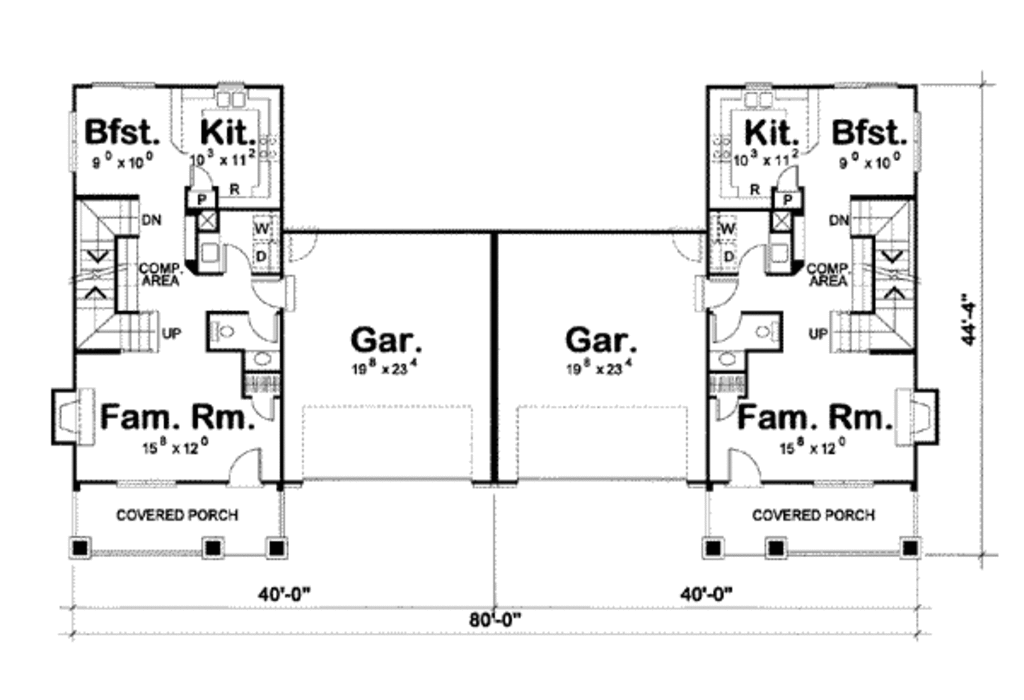door: (718, 441, 769, 493), (690, 274, 744, 312), (248, 274, 304, 309), (666, 219, 706, 262), (282, 224, 324, 262), (225, 446, 263, 485), (220, 236, 254, 279), (245, 310, 287, 344), (185, 155, 222, 191), (710, 309, 746, 343), (738, 241, 769, 277), (711, 390, 747, 421), (250, 389, 277, 421), (769, 162, 800, 189)
large_sink: (201, 308, 237, 347), (744, 312, 784, 345)
small_sink: (237, 346, 286, 373), (706, 349, 746, 373)
stairs: (821, 183, 918, 352), (75, 192, 167, 358)
twin_sink: (206, 78, 254, 113), (735, 77, 779, 111)
window: (810, 471, 880, 492), (108, 472, 181, 492), (64, 105, 85, 172), (911, 111, 926, 176), (119, 71, 160, 92), (833, 79, 866, 91)
